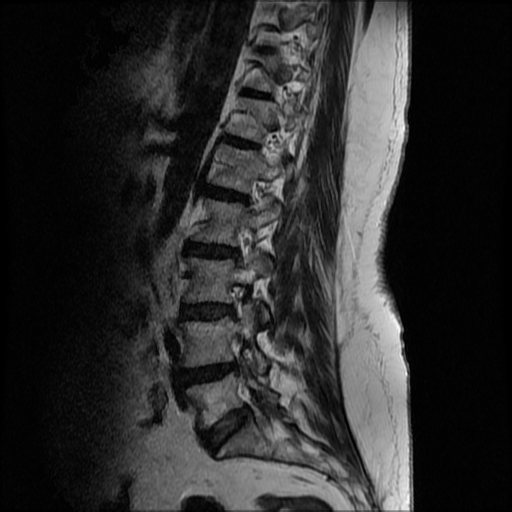LFS0: (225, 214, 266, 272)
LFS1: (220, 273, 258, 327)
